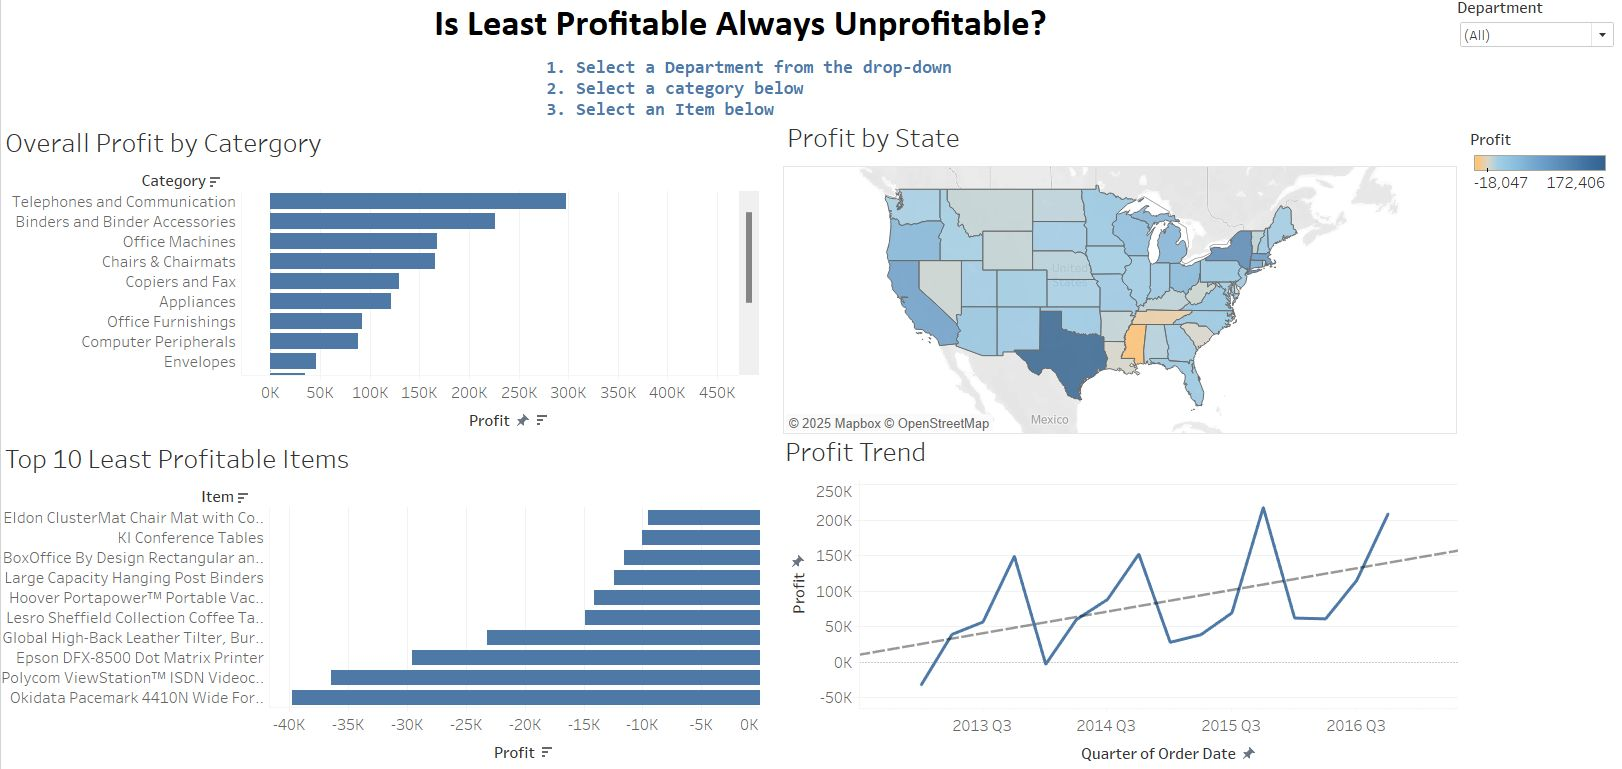

What the dashboard file says about the page in this screenshot:
{"tool":"tableau","page":{"name":"Dashboard 1","canvas":[1000,1000],"units":"permille","ordinal":0},"visuals":[{"type":"text","box":[6.7,9,288.3,38.4]},{"type":"filter","title":"Overall Profit by Catergory","param":"[federated.03u7q5a0h4b2xm10dxmj41qh1u2f].[none:Department:nk]","box":[889.4,9,97.7,84.5]},{"type":"text","box":[6.1,49.9,309.1,117.8]},{"type":"worksheet","title":"Profit by State","mark":"Automatic","box":[477.7,161.3,411.7,407.2]},{"type":"worksheet","title":"Overall Profit by Catergory","mark":"Bar","rows":["Category"],"cols":["Profit"],"box":[0,167.7,463,405.9]},{"type":"legend","title":"Profit by State","param":"[federated.03u7q5a0h4b2xm10dxmj41qh1u2f].[sum:Profit:qk]","box":[897.4,178,85.5,112.7]},{"type":"worksheet","title":"Profit Trend","mark":"Automatic","rows":["Profit"],"cols":["Order Date"],"box":[476.5,563.4,413.6,436.6]}]}

Visuals, with their boxes on the dashboard's canvas, which has no fixed pixel size, in thousandths of its width and height (x1, y1, x2, y2). These are canvas units, not pixel positions in the 1622x769 screenshot, which may show the page scaled, cropped or inside an application window:
text: (7, 9, 295, 47)
"Overall Profit by Catergory" filter: (889, 9, 987, 94)
text: (6, 50, 315, 168)
"Profit by State" worksheet: (478, 161, 889, 568)
"Overall Profit by Catergory" worksheet (Bar marks): (0, 168, 463, 574)
"Profit by State" legend: (897, 178, 983, 291)
"Profit Trend" worksheet: (476, 563, 890, 1000)
